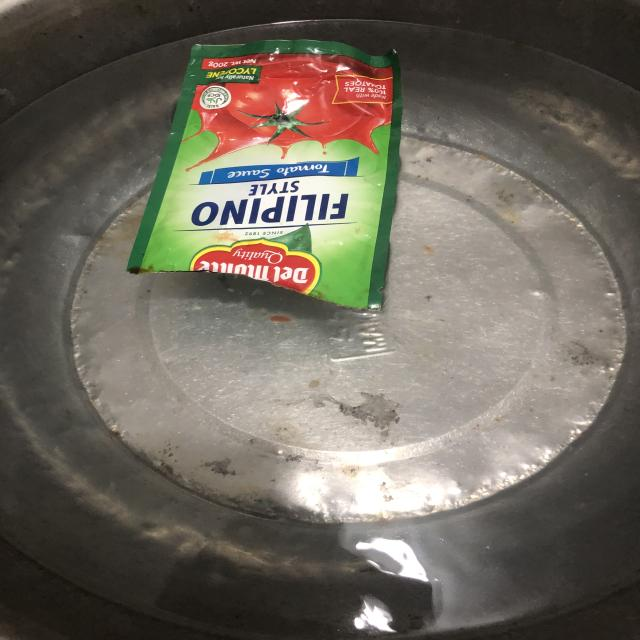Plastic Pouch: (127, 40, 402, 310)
